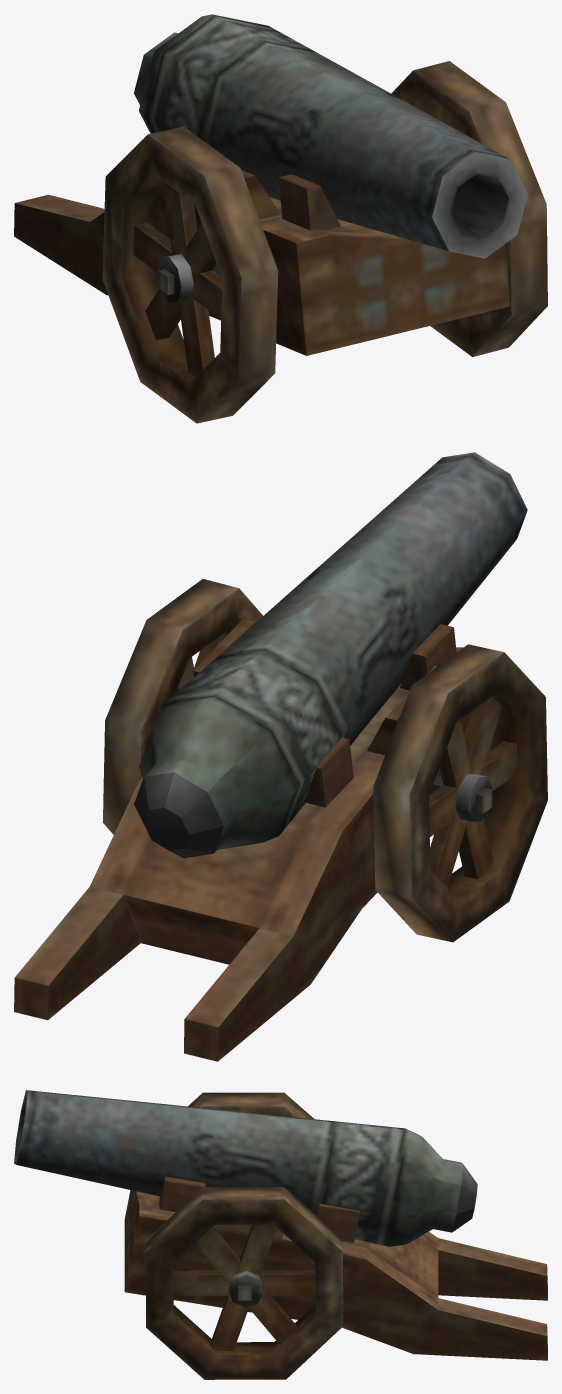
File: b_general_obj_05.fbx
3 renders of one model, top to bottom at view 1: azimuth 30°, elevation 25°; view 2: azimuth 150°, elevation 25°; view 3: azimuth 270°, elevation 25°, orthographic. The views are drawn at different scales.
Parts seen in each view (by area): view 1: Mesh03; view 2: Mesh03; view 3: Mesh03.
Boxes of the visible parts, x1,y1,x2,y2 form: Mesh03: [14, 14, 547, 423]; Mesh03: [14, 452, 547, 1061]; Mesh03: [14, 1090, 547, 1379].
Size of the model in its own units: 1.56 by 1.48 by 3.07.
